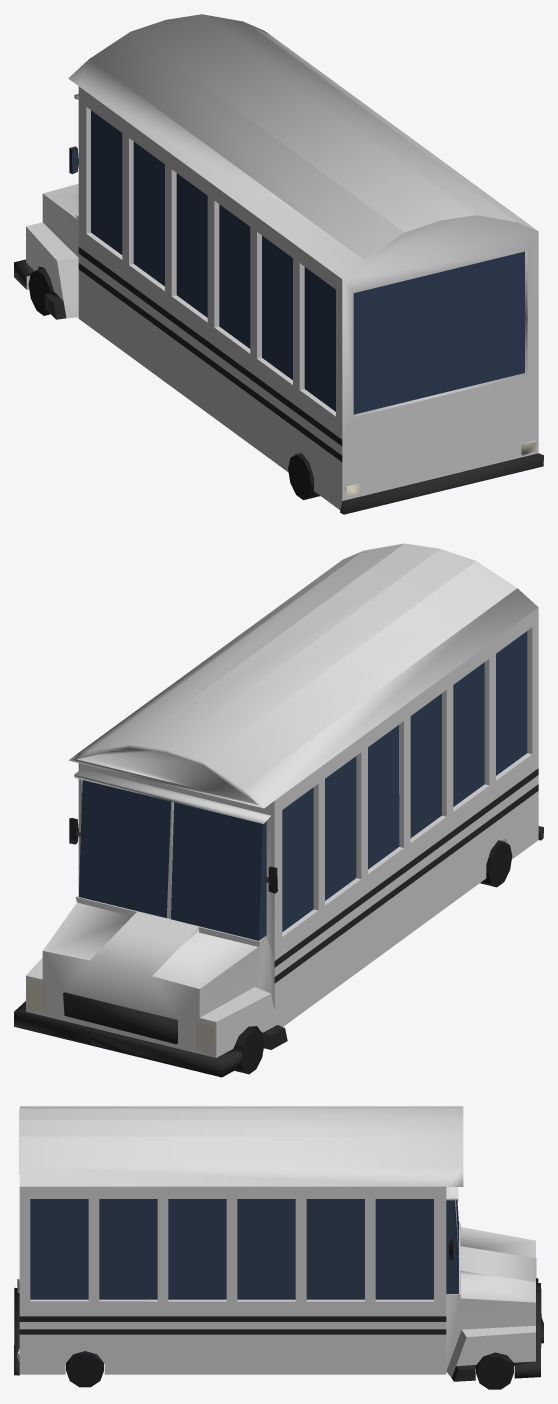
Rendered from schoolbus-lo.glb.
3 renders of one model, top to bottom at view 1: azimuth 30°, elevation 25°; view 2: azimuth 150°, elevation 25°; view 3: azimuth 270°, elevation 25°, orthographic. The views are drawn at different scales.
Parts seen in each view (by area): view 1: paint, glass, trim, tyre; view 2: paint, glass, trim, tyre, light; view 3: paint, glass, trim, tyre.
Part boxes in pixels (left/top/right/bottom): paint: left=26, top=14, right=538, bottom=509; glass: left=72, top=110, right=524, bottom=414; trim: left=14, top=146, right=543, bottom=514; tyre: left=28, top=268, right=319, bottom=499; paint: left=26, top=543, right=538, bottom=1057; glass: left=78, top=631, right=527, bottom=940; trim: left=14, top=768, right=543, bottom=1077; tyre: left=233, top=840, right=512, bottom=1074; light: left=28, top=981, right=213, bottom=1052; paint: left=19, top=1106, right=536, bottom=1377; glass: left=30, top=1199, right=458, bottom=1299; trim: left=14, top=1238, right=543, bottom=1381; tyre: left=66, top=1351, right=513, bottom=1389.
Bounding box in the file's own units: 3.26 × 3.79 × 8.
